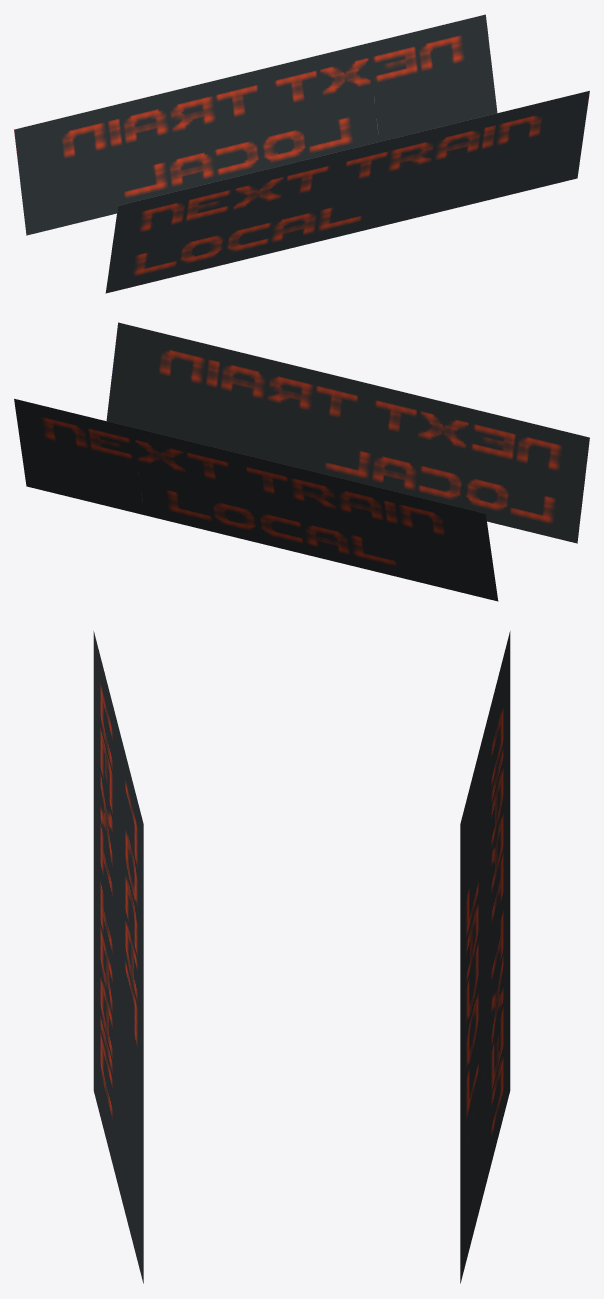
Rendered from SW_PROP_NextTrainSign_Local.fbx.
3 renders of one model, top to bottom at view 1: azimuth 30°, elevation 25°; view 2: azimuth 150°, elevation 25°; view 3: azimuth 270°, elevation 25°, orthographic. The views are drawn at different scales.
Visible parts, largest first — view 1: SW_PROP_NextTrainSign_Local; view 2: SW_PROP_NextTrainSign_Local; view 3: SW_PROP_NextTrainSign_Local.
Part boxes in pixels (x1,y1,x2,y2): SW_PROP_NextTrainSign_Local: (14,14,589,293); SW_PROP_NextTrainSign_Local: (14,322,589,601); SW_PROP_NextTrainSign_Local: (93,631,510,1283).
Size of the model in its own units: 136 by 26.78 by 52.15.
